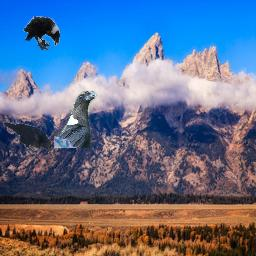Crow: (54, 91, 97, 148), (3, 122, 51, 155), (23, 16, 60, 50)
